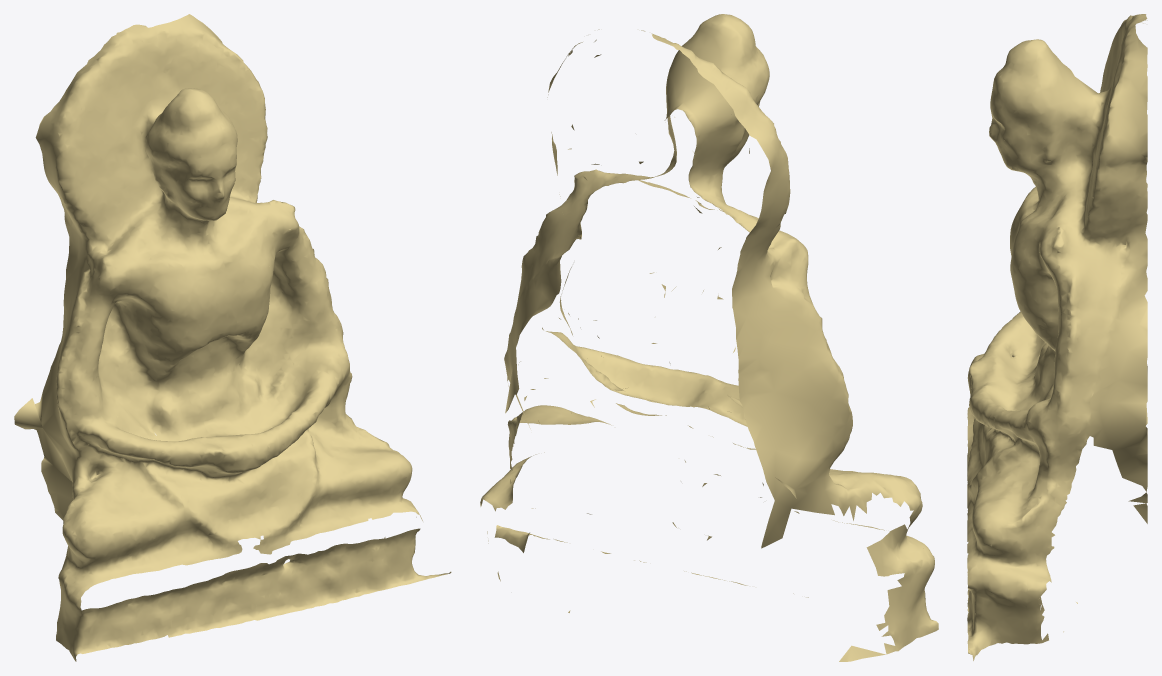
The model's file is buddha-fasting.glb.
3 views of the same model, side by side, from view 1: azimuth 30°, elevation 25°; view 2: azimuth 150°, elevation 25°; view 3: azimuth 270°, elevation 25° (orthographic). The views are drawn at different scales.
Size of the model in its own units: 0.585 by 0.8073 by 0.2466.
